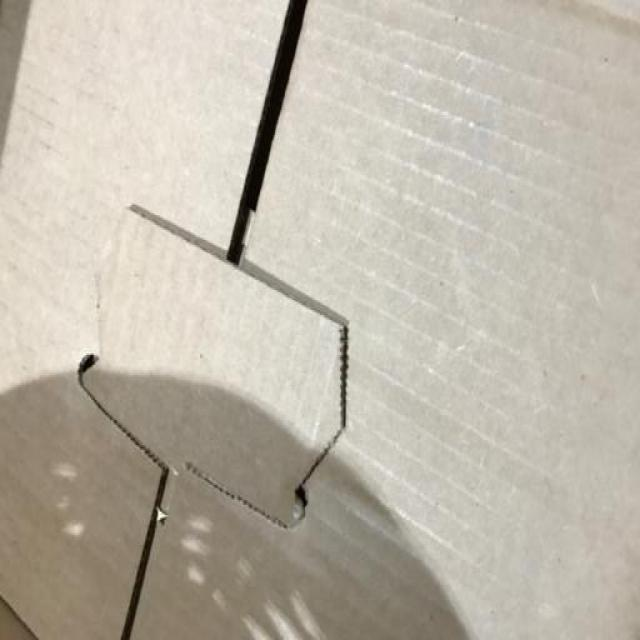cardboard: (1, 1, 640, 640)
